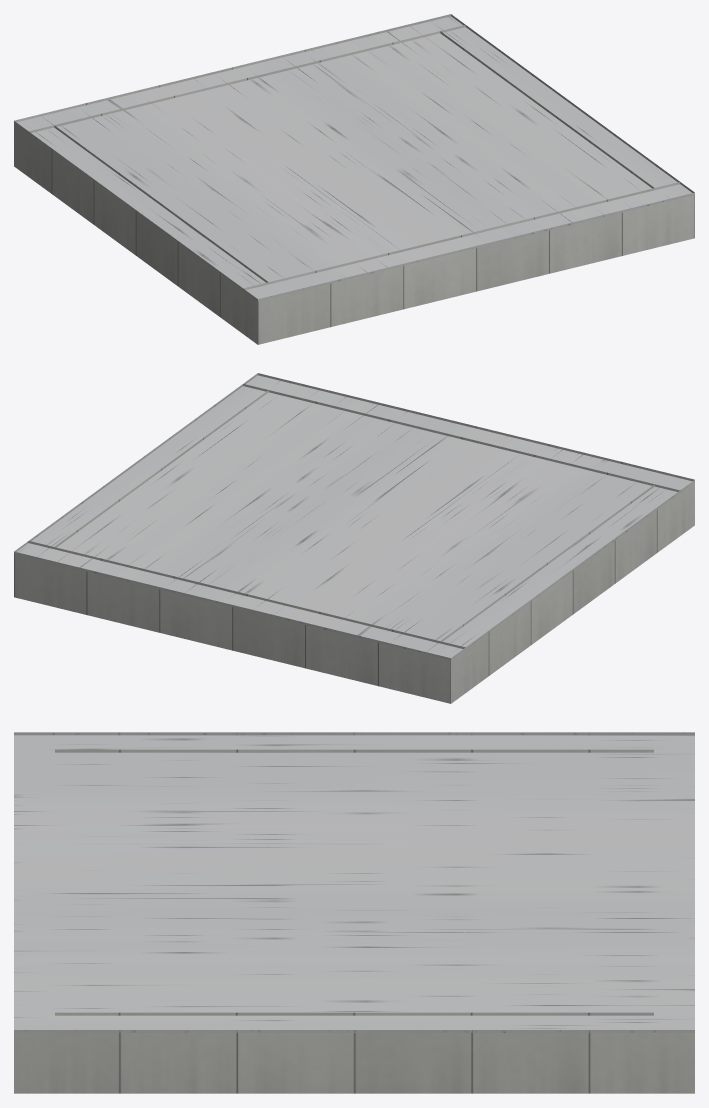
The model's file is SM_LFD_CeilingCoffer_Nave.fbx.
The picture shows the model from 3 angles, top to bottom: view 1: azimuth 30°, elevation 25°; view 2: azimuth 150°, elevation 25°; view 3: azimuth 270°, elevation 25°; orthographic projection. The views are drawn at different scales.
Parts seen in each view (by area): view 1: SM_LFD_CeilingCoffer_Nave; view 2: SM_LFD_CeilingCoffer_Nave; view 3: SM_LFD_CeilingCoffer_Nave.
Boxes of the visible parts, x1,y1,x2,y2 form: SM_LFD_CeilingCoffer_Nave: (14, 14, 694, 344); SM_LFD_CeilingCoffer_Nave: (14, 373, 694, 703); SM_LFD_CeilingCoffer_Nave: (14, 732, 694, 1093).
Bounding box in the file's own units: 6 × 0.6 × 5.8.
